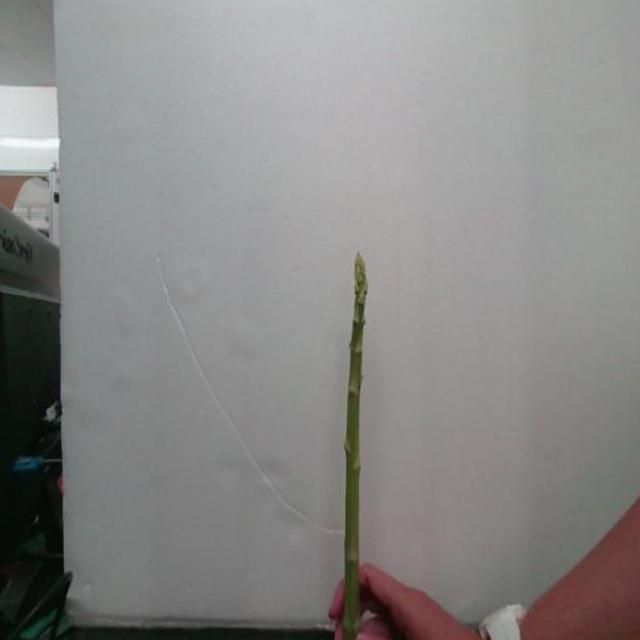aspargus: (333, 256, 369, 640)
